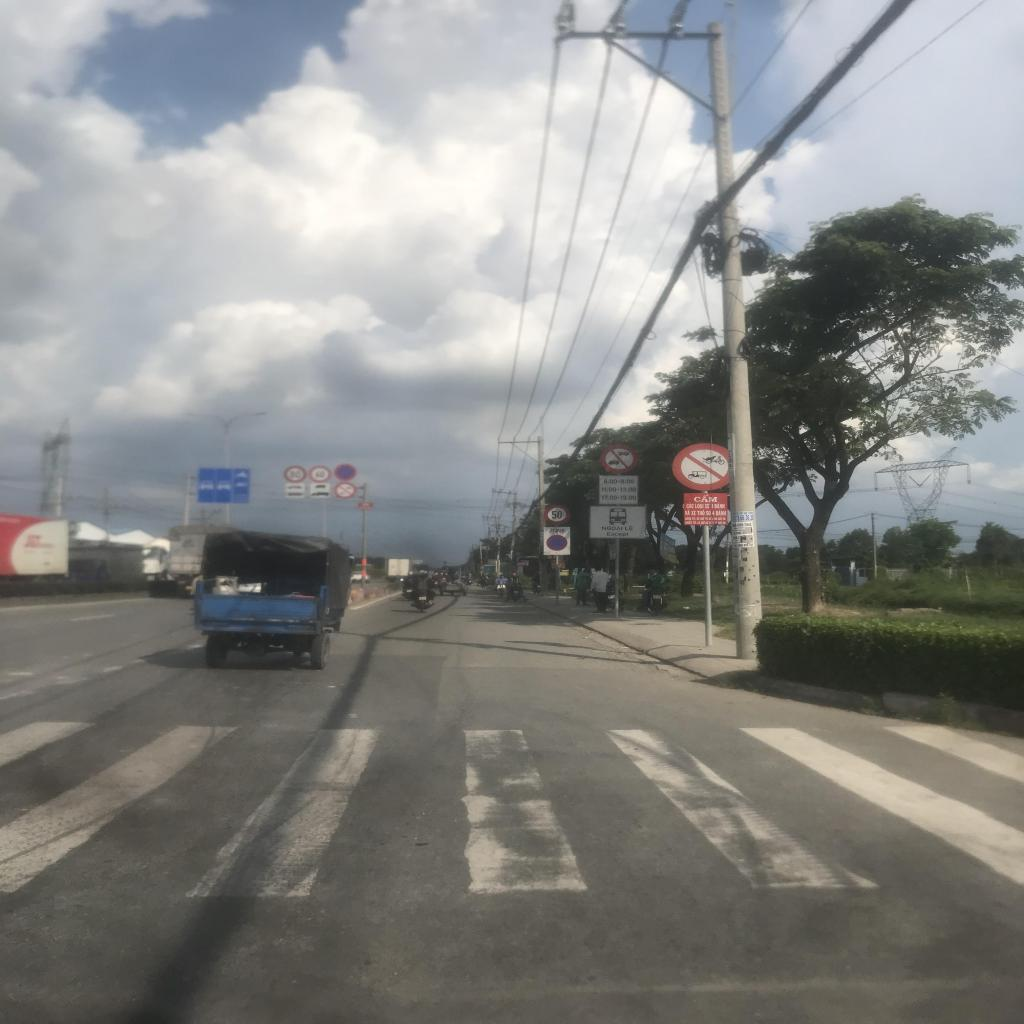cam_cac_loai_xe_3_banh: (673, 442, 729, 491)
cam_dung_xe_va_do_xe: (546, 534, 568, 551), (335, 464, 356, 481)
cam_o_to_tai_va_xe_khach: (600, 444, 640, 473)
cam_xe_2_banh_va_xe_3_banh_co_dong_co: (333, 482, 357, 500)
khac: (590, 506, 646, 538), (598, 475, 638, 505), (285, 482, 305, 490), (310, 490, 330, 498), (286, 490, 305, 497), (310, 483, 330, 489)
lan_duong_cho_tung_xe_theo_vach_ke_duong: (196, 467, 251, 504)
toc_do_toi_da_50: (543, 504, 571, 524)
toc_do_toi_da_60: (309, 465, 332, 483)
toc_do_toi_da_80: (284, 466, 306, 482)
